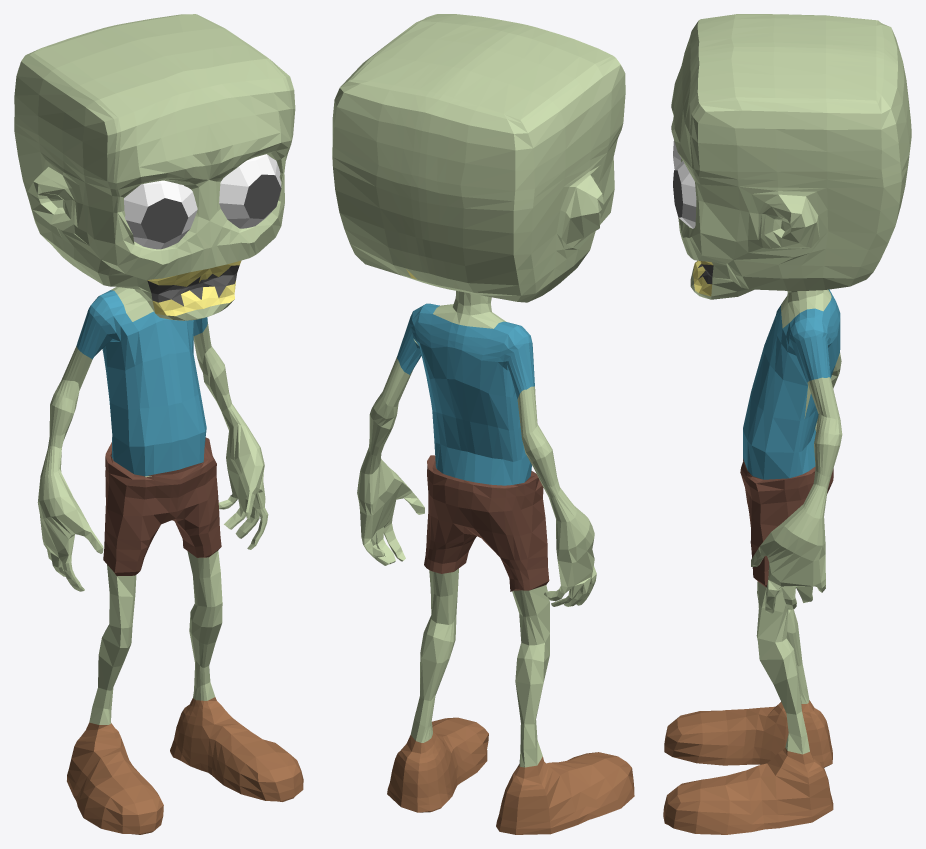
File: zom2.fbx
The picture shows the model from 3 angles, left to right: view 1: azimuth 30°, elevation 25°; view 2: azimuth 150°, elevation 25°; view 3: azimuth 270°, elevation 25°; orthographic projection. The views are drawn at different scales.
Parts seen in each view (by area): view 1: BSurfaceMesh_body_0, BSurfaceMesh_shoes_0, Sphere_eyes_0; view 2: BSurfaceMesh_body_0, BSurfaceMesh_shoes_0; view 3: BSurfaceMesh_body_0, BSurfaceMesh_shoes_0, Sphere_eyes_0.
Boxes of the visible parts, x1,y1,x2,y2 form: BSurfaceMesh_body_0: (14,14,295,724); BSurfaceMesh_shoes_0: (67,697,303,834); Sphere_eyes_0: (124,154,281,249); BSurfaceMesh_body_0: (332,14,625,767); BSurfaceMesh_shoes_0: (387,717,634,834); BSurfaceMesh_body_0: (671,14,911,754); BSurfaceMesh_shoes_0: (663,700,833,834); Sphere_eyes_0: (673,140,696,228).
Bounding box in the file's own units: 60.83 × 173 × 52.79.
